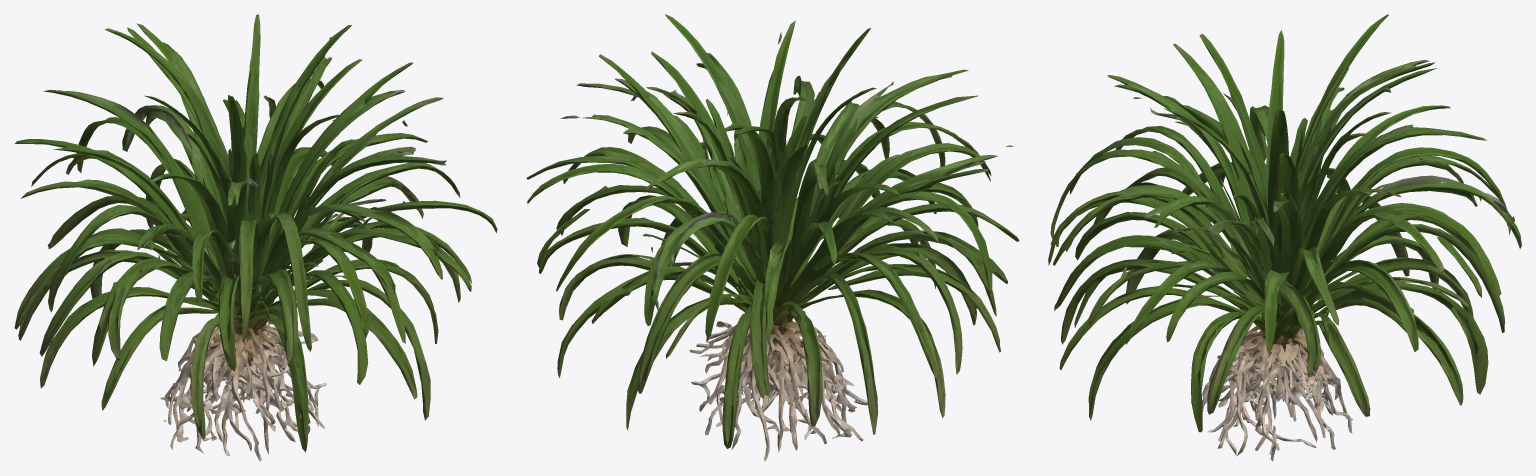
Rendered from grass-clump.glb.
3 views of the same model, side by side, from view 1: azimuth 30°, elevation 25°; view 2: azimuth 150°, elevation 25°; view 3: azimuth 270°, elevation 25° (orthographic). The views are drawn at different scales.
Parts seen in each view (by area): view 1: geometry_0; view 2: geometry_0; view 3: geometry_0.
Boxes of the visible parts, x1,y1,x2,y2 form: geometry_0: (14, 14, 497, 461); geometry_0: (526, 14, 1019, 461); geometry_0: (1048, 14, 1521, 461).
Size of the model in its own units: 0.8 by 0.706 by 0.7908.
1 material, 1 textured.
